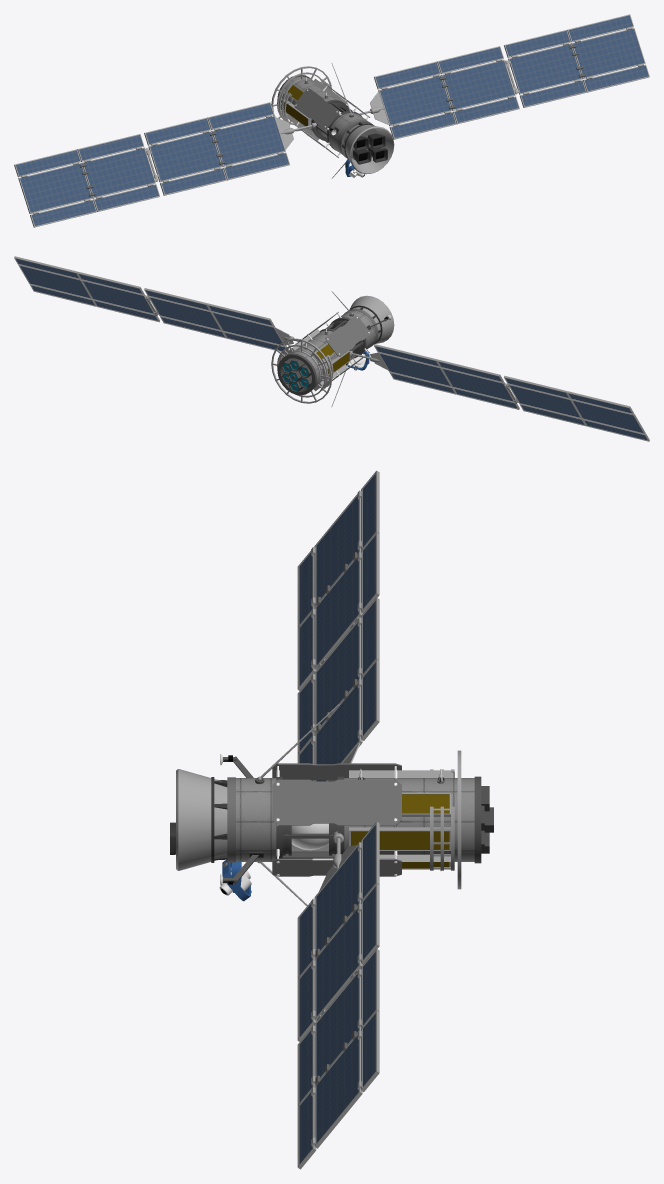
File: SatKit.fbx
The picture shows the model from 3 angles, top to bottom: view 1: azimuth 30°, elevation 25°; view 2: azimuth 150°, elevation 25°; view 3: azimuth 270°, elevation 25°; orthographic projection. The views are drawn at different scales.
Parts seen in each view (by area): view 1: s4; view 2: s4; view 3: s4.
Part boxes in pixels (<box>): s4: <box>14,14,649,227</box>; s4: <box>14,256,649,441</box>; s4: <box>170,470,493,1169</box>.
Bounding box in the file's own units: 1243 × 224 × 283.
